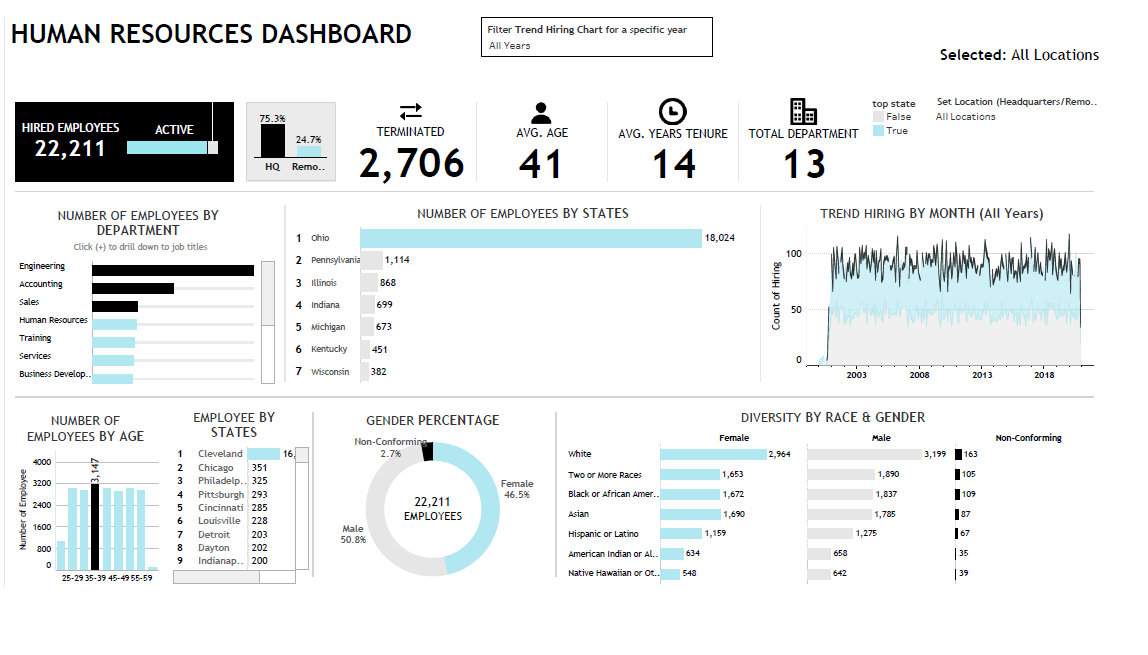

The dashboard page shown, as its layout file describes it:
{"tool":"tableau","page":{"name":"Overview","canvas":[1666,868],"ordinal":1},"visuals":[{"type":"blank","box":[9.5,8.2,92,75]},{"type":"blank","box":[101.5,8.2,1,851.7]},{"type":"text","box":[102.5,8.2,990,112]},{"type":"parameter","param":"[Parameters].[Parameter 2]","box":[1092.5,8.2,263,112]},{"type":"text","box":[1396,8.2,260.5,112]},{"type":"parameter","param":"[Parameters].[Parameter 1]","box":[724,13,346,26.5]},{"type":"legend","title":"bar city - tooltip","param":"[federated.0ey7tr31selp4a19schg91g7evsp].[usr:Calculation_4137259949669974019:nk","box":[724,39.5,346,26.5]},{"type":"blank","box":[9.5,83.2,92,213]},{"type":"blank","box":[321.3,119.5,1.2,77.6]},{"type":"worksheet","title":"total employees","mark":"Shape","box":[103,120,181,148]},{"type":"text","box":[284,120,165,65]},{"type":"worksheet","title":"hc/remote","mark":"Automatic","rows":["Human Resources_F206DD02EB19420180BA8261C71A3398"],"cols":["location"],"box":[448.5,120.2,164,148]},{"type":"image","param":"Image/reverse-svgrepo-com.svg","box":[612.5,120.2,195,46]},{"type":"blank","box":[807.5,120.2,1,148]},{"type":"image","param":"Image/person-svgrepo-com.svg","box":[808.5,120.2,195,50]},{"type":"blank","box":[1003.5,120.2,1,148]},{"type":"image","param":"Image/time-svgrepo-com.svg","box":[1004.5,120.2,195,50]},{"type":"blank","box":[1199.5,120.2,1,148]},{"type":"image","param":"Image/office-buildings-svgrepo-com.svg","box":[1200.5,120.2,195,50]},{"type":"worksheet","title":"termination","mark":"Shape","box":[612.5,166.2,195,102]},{"type":"worksheet","title":"avg. age","mark":"Shape","box":[808.5,170.2,195,97]},{"type":"worksheet","title":"avg. tenure","mark":"Shape","box":[1004.5,170.2,195,98]},{"type":"worksheet","title":"total department","mark":"Shape","box":[1200.5,170.2,195,98]},{"type":"worksheet","title":"active","mark":"Bar","rows":["Calculation_364650837488418818"],"box":[284,185,165,83]},{"type":"blank","box":[102.5,268.2,1554,6]},{"type":"worksheet","title":"department","mark":"Line","rows":["department"],"cols":["Calculation_4137259949722652690"],"box":[117.5,274.2,403,294]},{"type":"blank","box":[520.5,274.2,1,294]},{"type":"worksheet","title":"bar states","mark":"Bar","rows":["Calculation_4137259949675261960","location_state"],"cols":["Human Resources_F206DD02EB19420180BA8261C71A3398"],"box":[521.5,274.2,615,294]},{"type":"blank","box":[1136.5,274.2,11,294]},{"type":"worksheet","title":"trend hiring","mark":"Area","rows":["Human Resources_F206DD02EB19420180BA8261C71A3398"],"cols":["hire_date"],"box":[1147.5,274.2,509,294]},{"type":"blank","box":[102.5,568.2,1554,17]},{"type":"worksheet","title":"employee by age","mark":"Automatic","rows":["Human Resources_F206DD02EB19420180BA8261C71A3398"],"cols":["Age (bin) 2"],"box":[102.5,585.2,248,274.6]},{"type":"worksheet","title":"bar city - tooltip","mark":"Bar","rows":["Calculation_880735207486566401","location_city"],"cols":["Human Resources_F206DD02EB19420180BA8261C71A3398"],"box":[350.5,585.2,212,274.6]},{"type":"blank","box":[562.5,585.2,1,274.6]},{"type":"worksheet","title":"gender pie","mark":"Pie","rows":["Calculation_6859826657799290881","Calculation_6859826657799290881"],"box":[563.5,585.2,358,274.6]},{"type":"blank","box":[921.5,585.2,14,274.6]},{"type":"worksheet","title":"diversity race & gender","mark":"Automatic","rows":["race"],"cols":["gender","Human Resources_F206DD02EB19420180BA8261C71A3398"],"box":[935.5,585.2,721,274.6]}]}

Visuals, with their boxes on the page's 1666x868 design canvas (x1, y1, x2, y2). These are canvas units, not pixel positions in the 1148x655 screenshot, which may show the page scaled, cropped or inside an application window:
blank: select_region(10, 8, 102, 83)
blank: select_region(102, 8, 102, 860)
text: select_region(102, 8, 1092, 120)
parameter: select_region(1092, 8, 1356, 120)
text: select_region(1396, 8, 1656, 120)
parameter: select_region(724, 13, 1070, 40)
"bar city - tooltip" legend: select_region(724, 40, 1070, 66)
blank: select_region(10, 83, 102, 296)
blank: select_region(321, 120, 322, 197)
"total employees" worksheet (Shape marks): select_region(103, 120, 284, 268)
text: select_region(284, 120, 449, 185)
"hc/remote" worksheet: select_region(448, 120, 612, 268)
image: select_region(612, 120, 808, 166)
blank: select_region(808, 120, 808, 268)
image: select_region(808, 120, 1004, 170)
blank: select_region(1004, 120, 1004, 268)
image: select_region(1004, 120, 1200, 170)
blank: select_region(1200, 120, 1200, 268)
image: select_region(1200, 120, 1396, 170)
"termination" worksheet (Shape marks): select_region(612, 166, 808, 268)
"avg. age" worksheet (Shape marks): select_region(808, 170, 1004, 267)
"avg. tenure" worksheet (Shape marks): select_region(1004, 170, 1200, 268)
"total department" worksheet (Shape marks): select_region(1200, 170, 1396, 268)
"active" worksheet (Bar marks): select_region(284, 185, 449, 268)
blank: select_region(102, 268, 1656, 274)
"department" worksheet (Line marks): select_region(118, 274, 520, 568)
blank: select_region(520, 274, 522, 568)
"bar states" worksheet (Bar marks): select_region(522, 274, 1136, 568)
blank: select_region(1136, 274, 1148, 568)
"trend hiring" worksheet (Area marks): select_region(1148, 274, 1656, 568)
blank: select_region(102, 568, 1656, 585)
"employee by age" worksheet: select_region(102, 585, 350, 860)
"bar city - tooltip" worksheet (Bar marks): select_region(350, 585, 562, 860)
blank: select_region(562, 585, 564, 860)
"gender pie" worksheet (Pie marks): select_region(564, 585, 922, 860)
blank: select_region(922, 585, 936, 860)
"diversity race & gender" worksheet: select_region(936, 585, 1656, 860)
